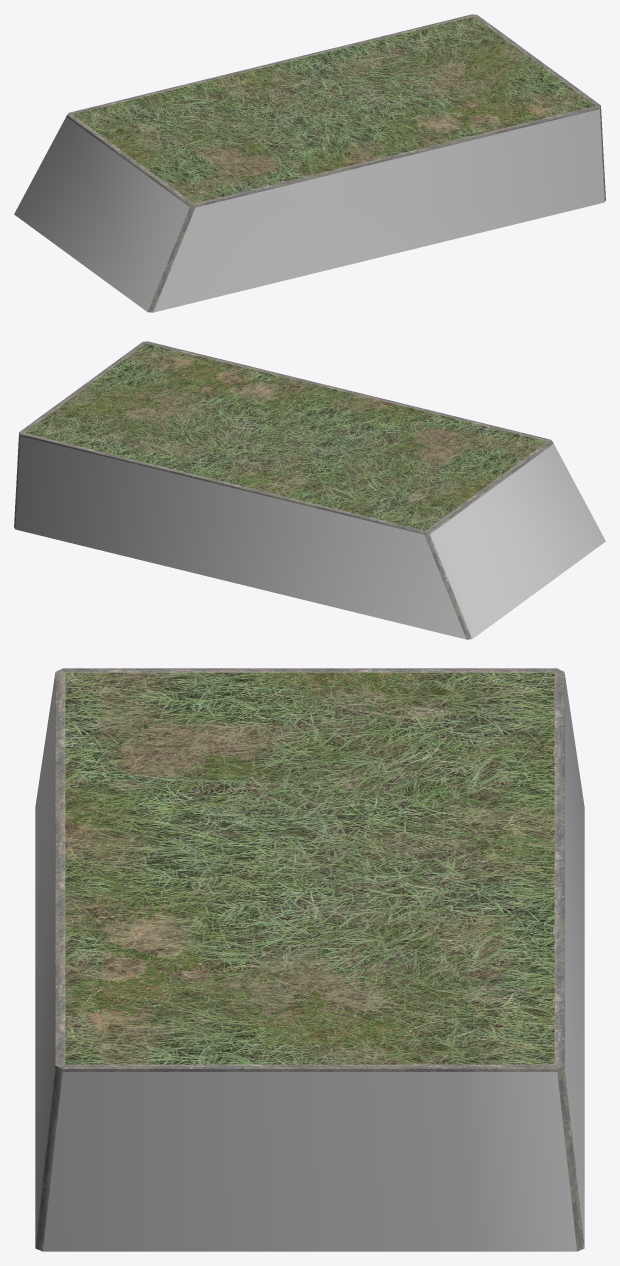
Rendered from JpHouseJ_StoneWall_01a.fbx.
3 views of the same model, one above another, from view 1: azimuth 30°, elevation 25°; view 2: azimuth 150°, elevation 25°; view 3: azimuth 270°, elevation 25° (orthographic). The views are drawn at different scales.
Visible parts, largest first — view 1: JpHouseJ_StoneWall_01a; view 2: JpHouseJ_StoneWall_01a; view 3: JpHouseJ_StoneWall_01a.
Boxes of the visible parts, x1=… form: JpHouseJ_StoneWall_01a: x1=14, y1=14, x2=605, y2=312; JpHouseJ_StoneWall_01a: x1=14, y1=341, x2=605, y2=639; JpHouseJ_StoneWall_01a: x1=35, y1=668, x2=584, y2=1251.
Bounding box in the file's own units: 21 × 4 × 10.9.
